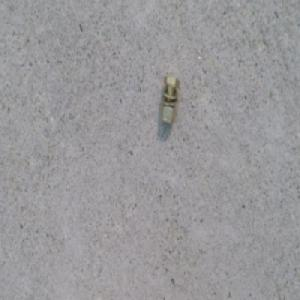BoltNutSet: (157, 76, 180, 125)
